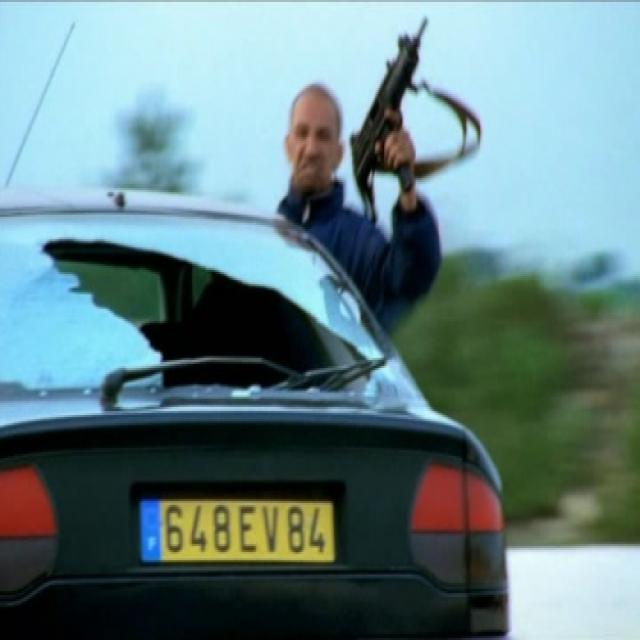rifle: (351, 12, 435, 213)
